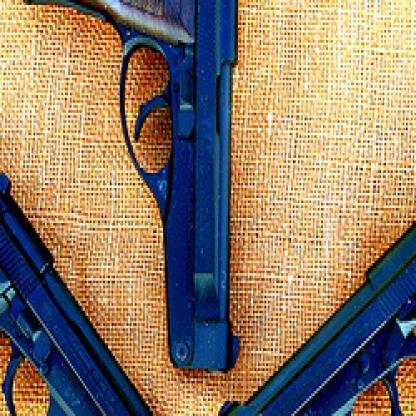gun: (15, 0, 246, 381), (0, 146, 178, 414), (215, 180, 414, 414)
